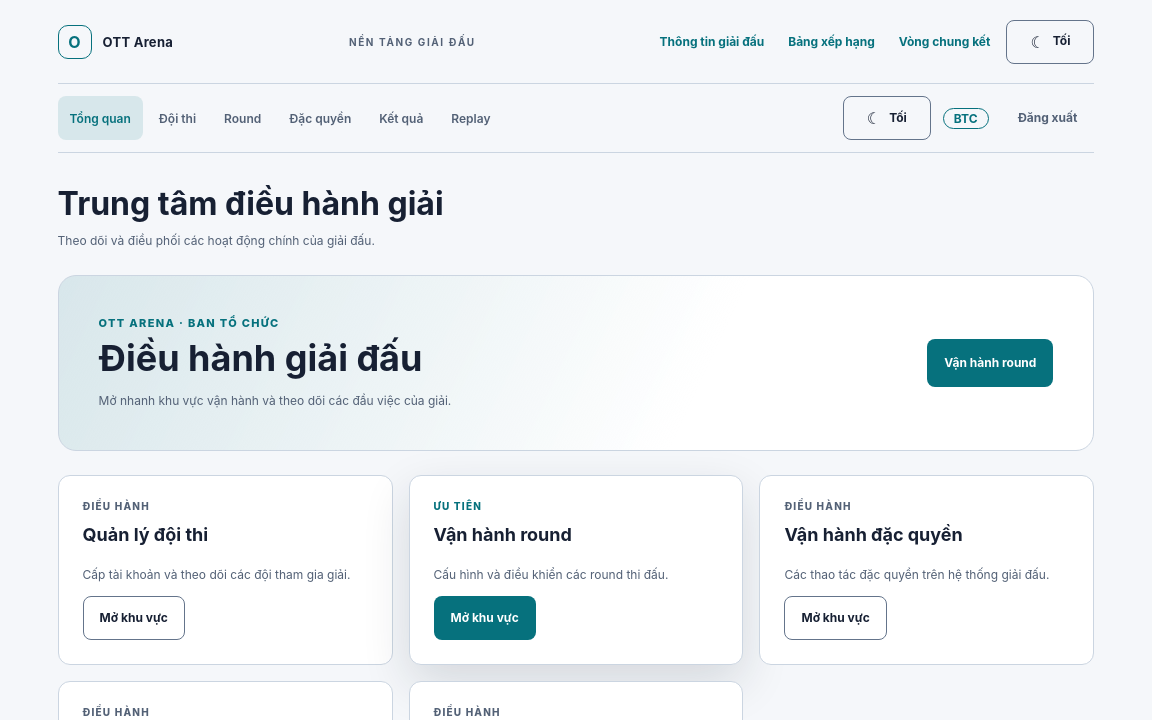
Test: authentication routes › keeps the current screen and reports a retryable logout failure
The width and height of the screenshot is (1152, 720).
Click the button "Đăng xuất" at (1048, 118), box [1001,96,1094,140]
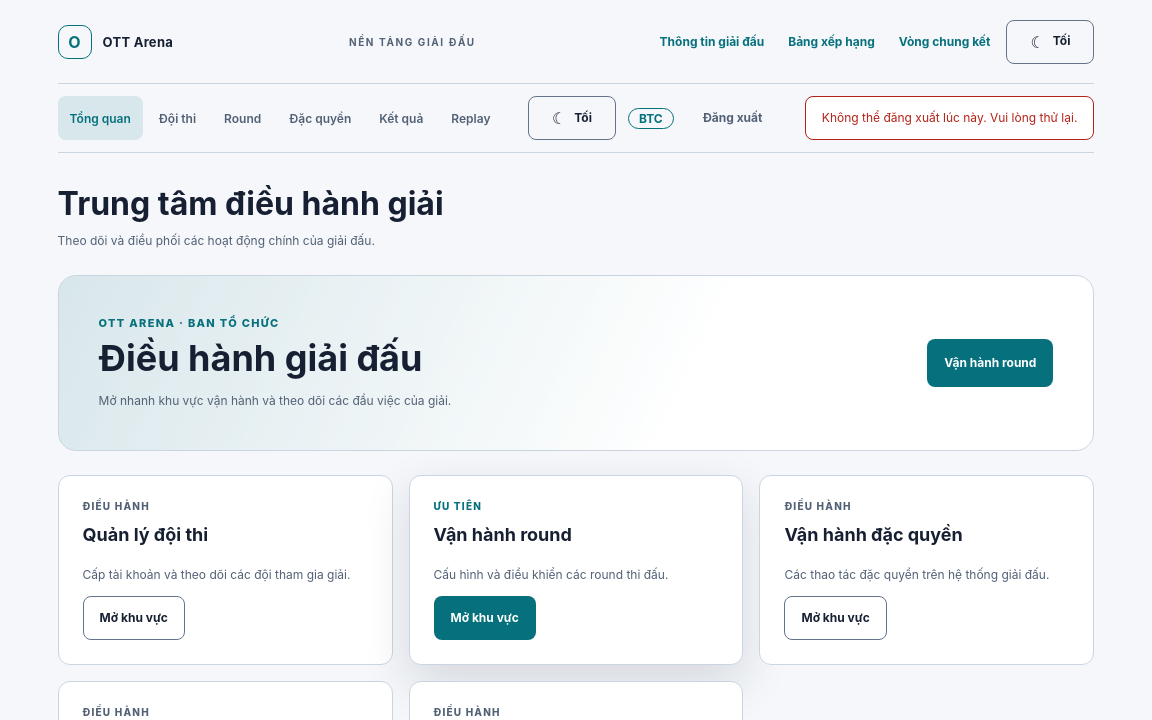
Expected: the heading "Trung tâm điều hành giải" is shown, [58,185,444,223]
Expected: the message "Không thể đăng xuất lúc này. Vui lòng thử lại." is shown, [805,96,1094,140]
